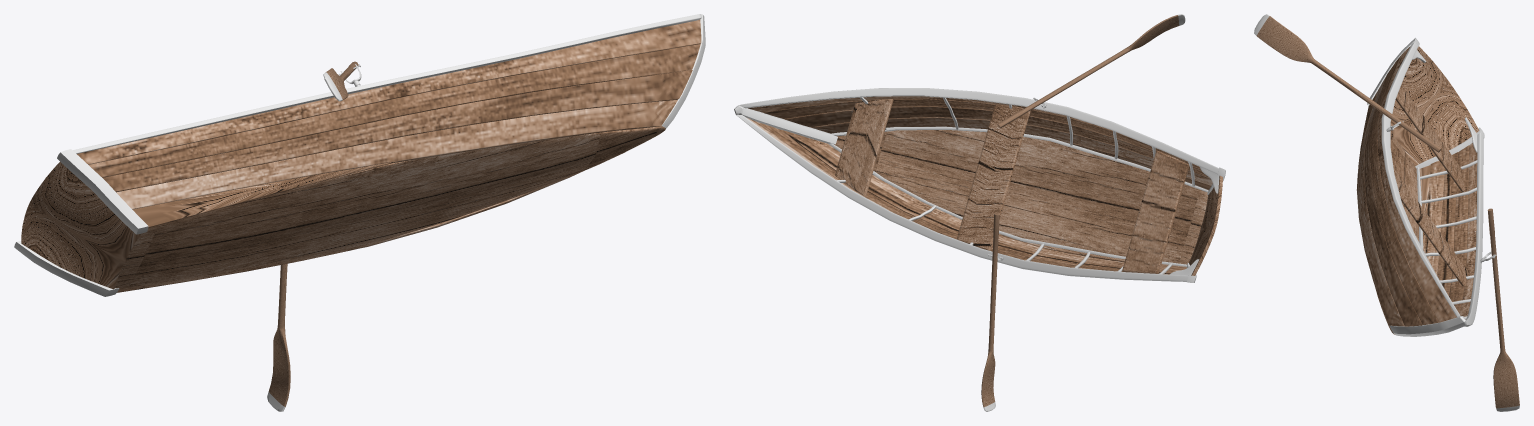
File: boat.gltf
3 views of the same model, side by side, from view 1: azimuth 30°, elevation 25°; view 2: azimuth 150°, elevation 25°; view 3: azimuth 270°, elevation 25° (orthographic). The views are drawn at different scales.
Parts seen in each view (by area): view 1: boat; view 2: boat; view 3: boat.
Boxes of the visible parts, box(x1,y1,x2,y2) form: boat: box(14, 14, 705, 411); boat: box(734, 14, 1225, 411); boat: box(1254, 14, 1519, 411).
Bounding box in the file's own units: 15.91 × 10.68 × 7.21.
1 material, 1 textured.
